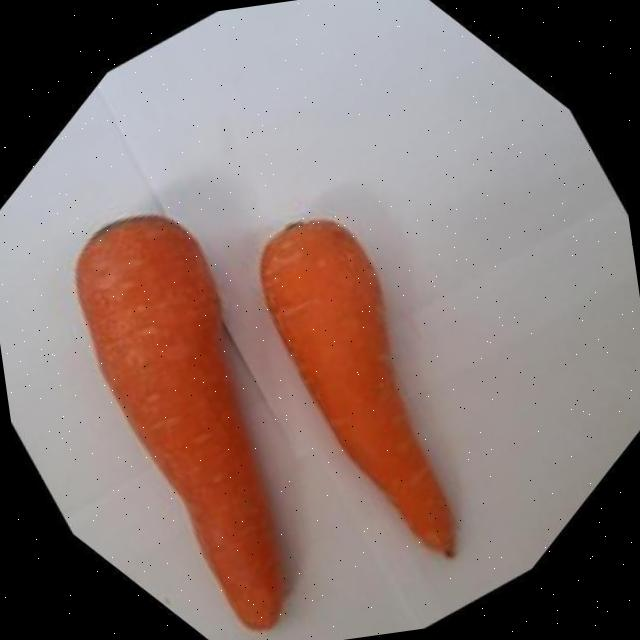carrot: (76, 215, 284, 629), (77, 216, 284, 628), (261, 219, 456, 556)
